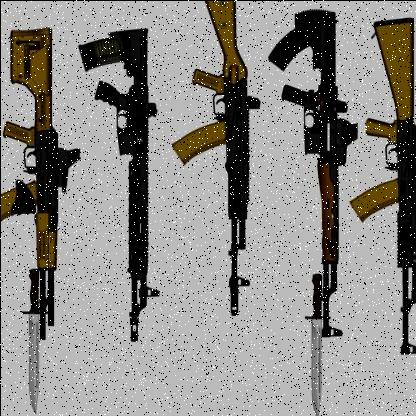rifle: (175, 0, 269, 316), (77, 26, 163, 346), (266, 4, 350, 317), (346, 11, 416, 356), (0, 18, 69, 323)
